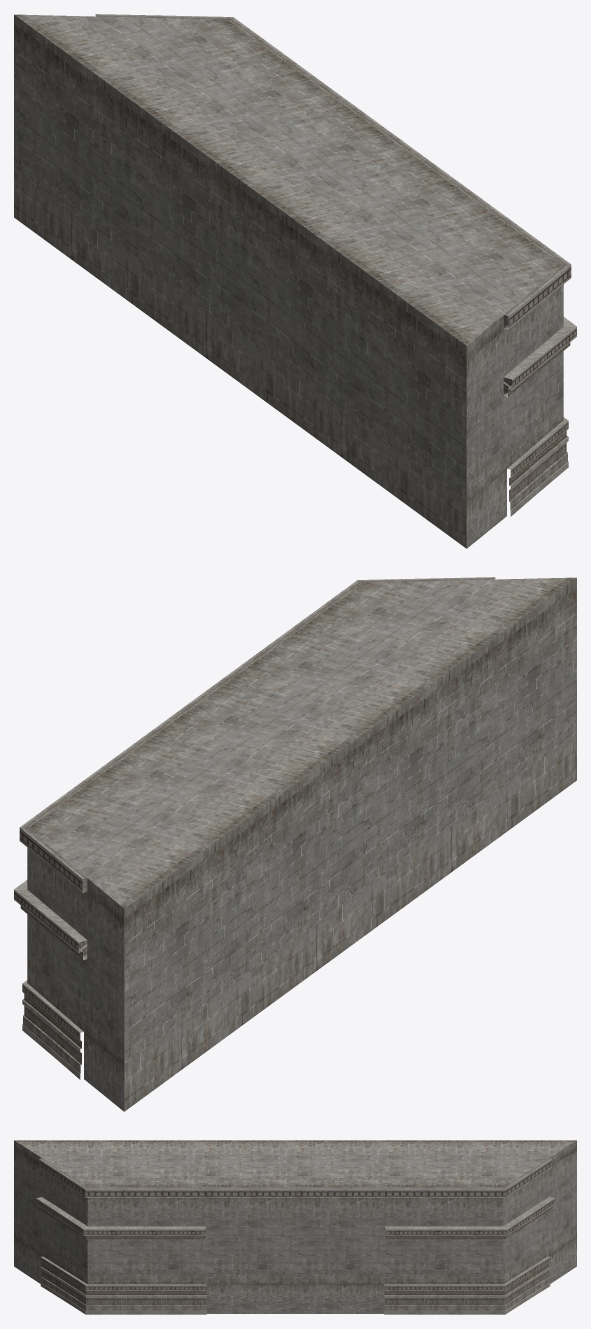
Rendered from bg_lut_lucastle_arena03_sm_ksh.FBX.
3 renders of one model, top to bottom at view 1: azimuth 30°, elevation 25°; view 2: azimuth 150°, elevation 25°; view 3: azimuth 270°, elevation 25°, orthographic. The views are drawn at different scales.
Visible parts, largest first — view 1: bg_lut_lucastle_arena03_sm_ksh; view 2: bg_lut_lucastle_arena03_sm_ksh; view 3: bg_lut_lucastle_arena03_sm_ksh.
Boxes of the visible parts, x1,y1,x2,y2 form: bg_lut_lucastle_arena03_sm_ksh: [14, 14, 576, 548]; bg_lut_lucastle_arena03_sm_ksh: [14, 577, 576, 1111]; bg_lut_lucastle_arena03_sm_ksh: [14, 1140, 576, 1314].
Size of the model in its own units: 462 by 539 by 2177.
